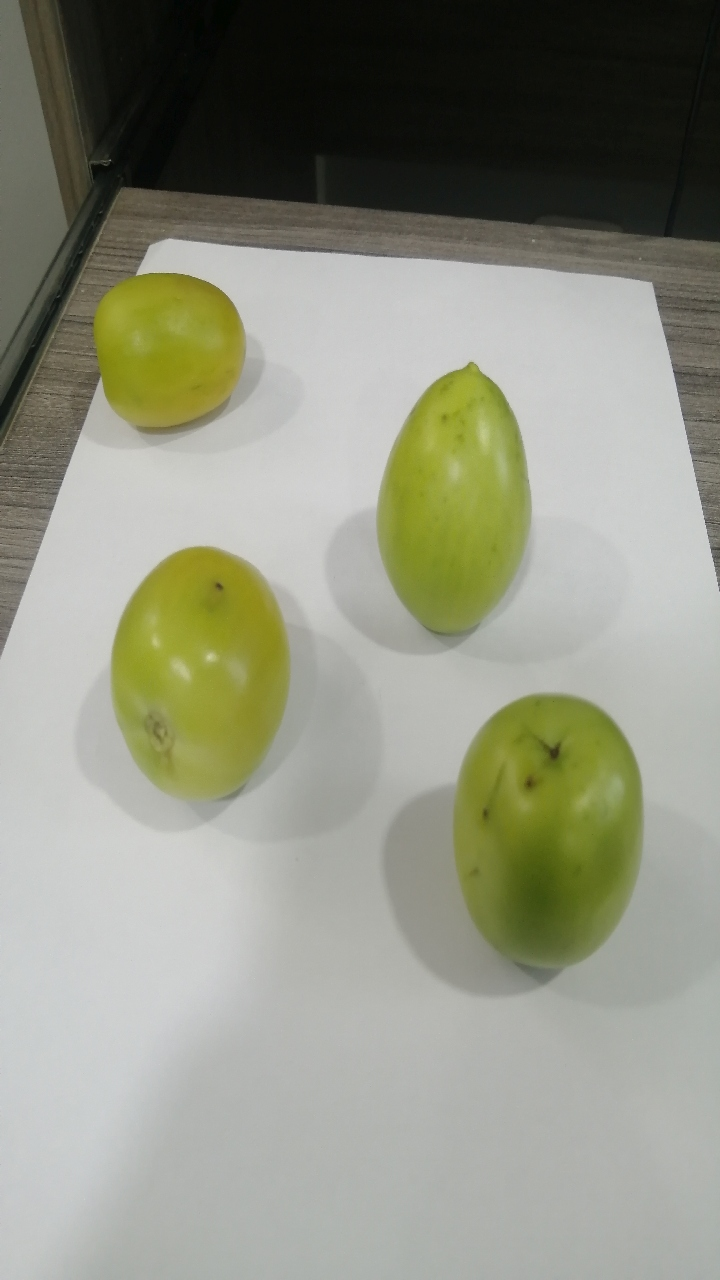tomateVerde: (89, 523, 320, 834), (434, 683, 663, 985), (354, 352, 557, 645), (54, 260, 264, 455)
